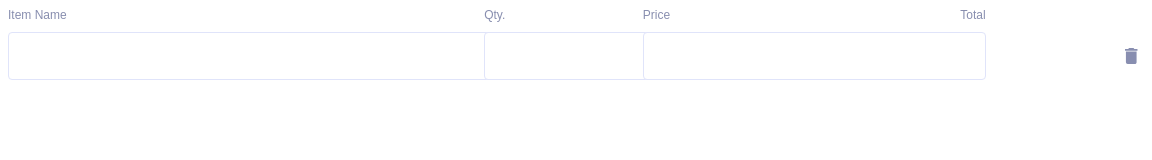
Item › should calculate the total price correctly
This screenshot has width=1152, height=160.
Type "5" into the field labelled "Qty." at (576, 56), box [484,32,669,80]
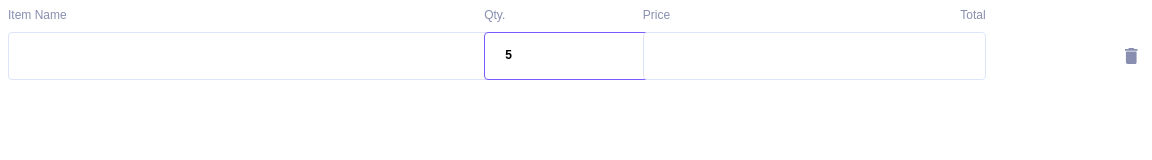
Type "100" into the field labelled "Price" at (814, 56), box [643,32,986,80]
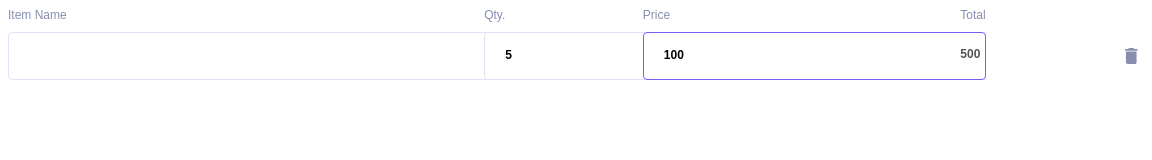
Result: the field labelled "Total" holds "500" at [960,32,1103,78]
